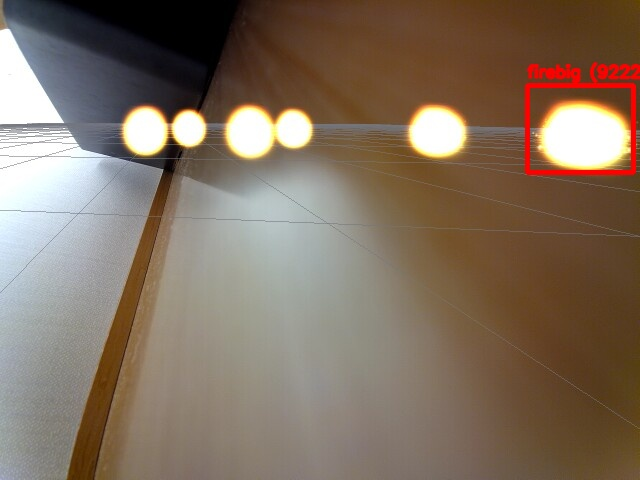firebig: (527, 85, 633, 172)
